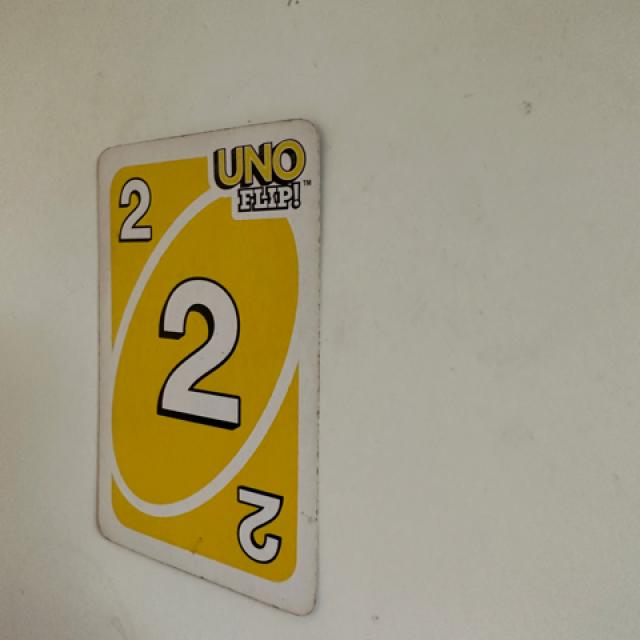lyellow-2: (105, 158, 172, 258)
